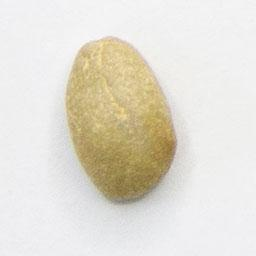longberry: (61, 31, 181, 205)
